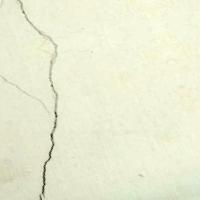crack: (10, 0, 70, 199)
